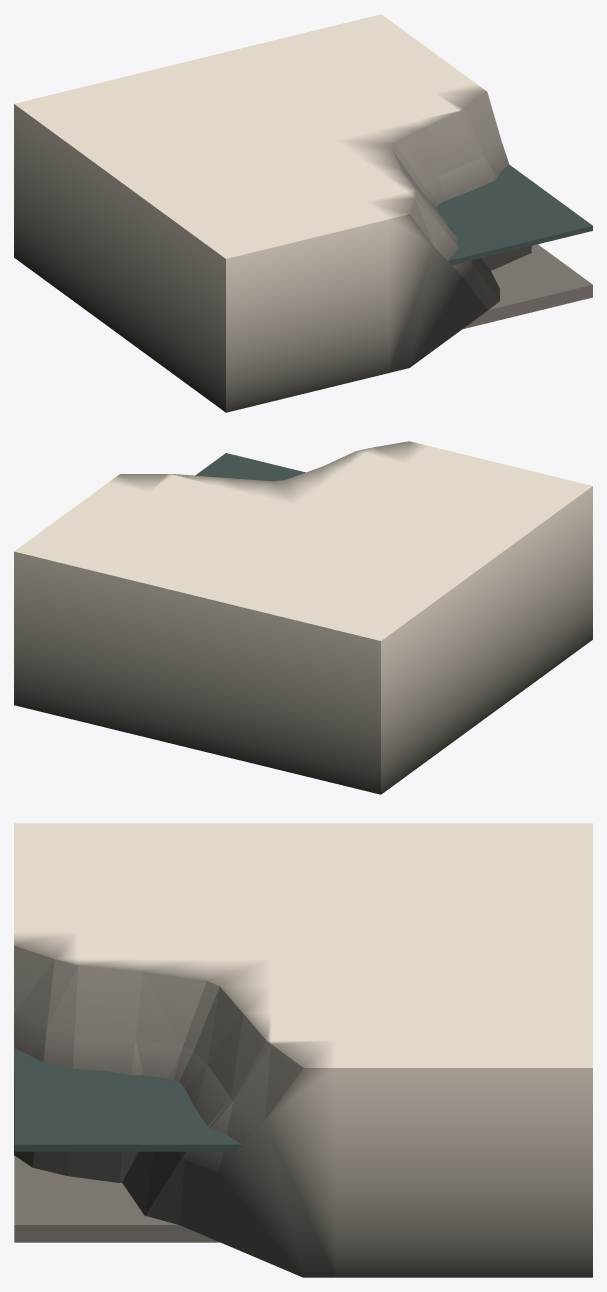
Rendered from SM_VKI_Ground_Stream_OXOO_Q01.fbx.
The picture shows the model from 3 angles, top to bottom: view 1: azimuth 30°, elevation 25°; view 2: azimuth 150°, elevation 25°; view 3: azimuth 270°, elevation 25°; orthographic projection. The views are drawn at different scales.
Parts seen in each view (by area): view 1: SM_VKI_Ground_Stream_OXOO_Q01.001; view 2: SM_VKI_Ground_Stream_OXOO_Q01.001; view 3: SM_VKI_Ground_Stream_OXOO_Q01.001.
Part boxes in pixels (box(x1,y1,x2,y2)): SM_VKI_Ground_Stream_OXOO_Q01.001: box(14, 14, 592, 412); SM_VKI_Ground_Stream_OXOO_Q01.001: box(14, 441, 592, 794); SM_VKI_Ground_Stream_OXOO_Q01.001: box(14, 823, 592, 1277).
Size of the model in its own units: 1.5 by 0.6 by 1.5.
